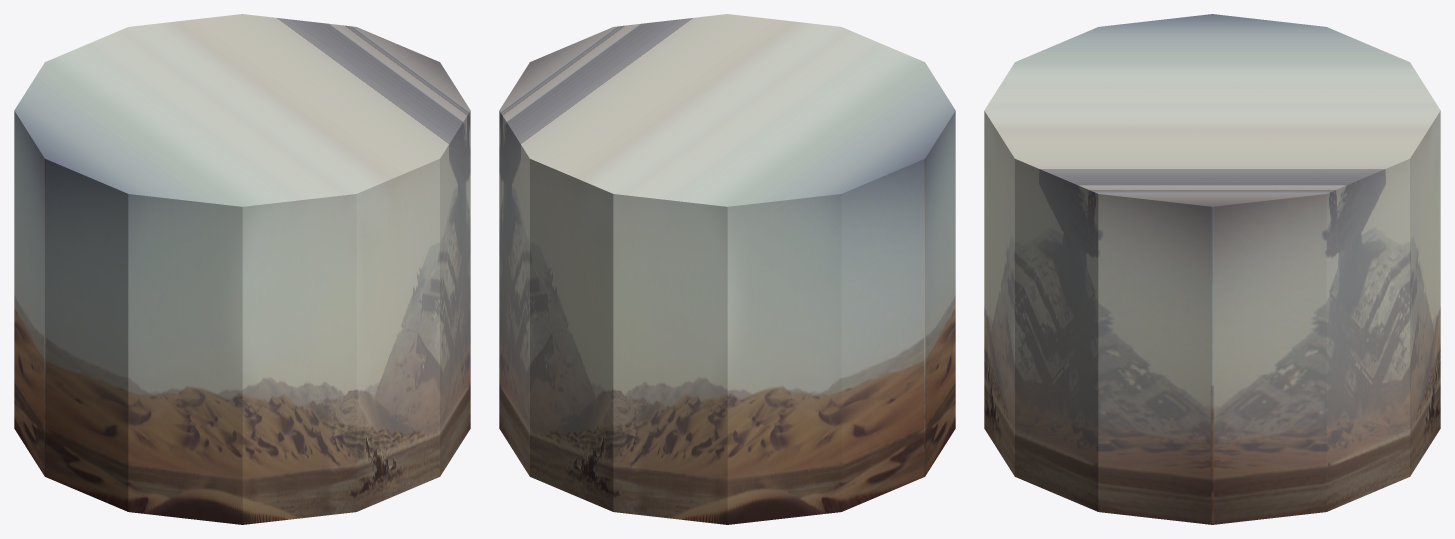
File: SkyCylinder.fbx
3 renders of one model, left to right at view 1: azimuth 30°, elevation 25°; view 2: azimuth 150°, elevation 25°; view 3: azimuth 270°, elevation 25°, orthographic.
Visible parts, largest first — view 1: SkyCylinder; view 2: SkyCylinder; view 3: SkyCylinder.
Part boxes in pixels (left/top/right/bottom): SkyCylinder: left=14, top=14, right=470, bottom=524; SkyCylinder: left=499, top=14, right=955, bottom=524; SkyCylinder: left=984, top=14, right=1440, bottom=524.
Size of the model in its own units: 200 by 154 by 200.
